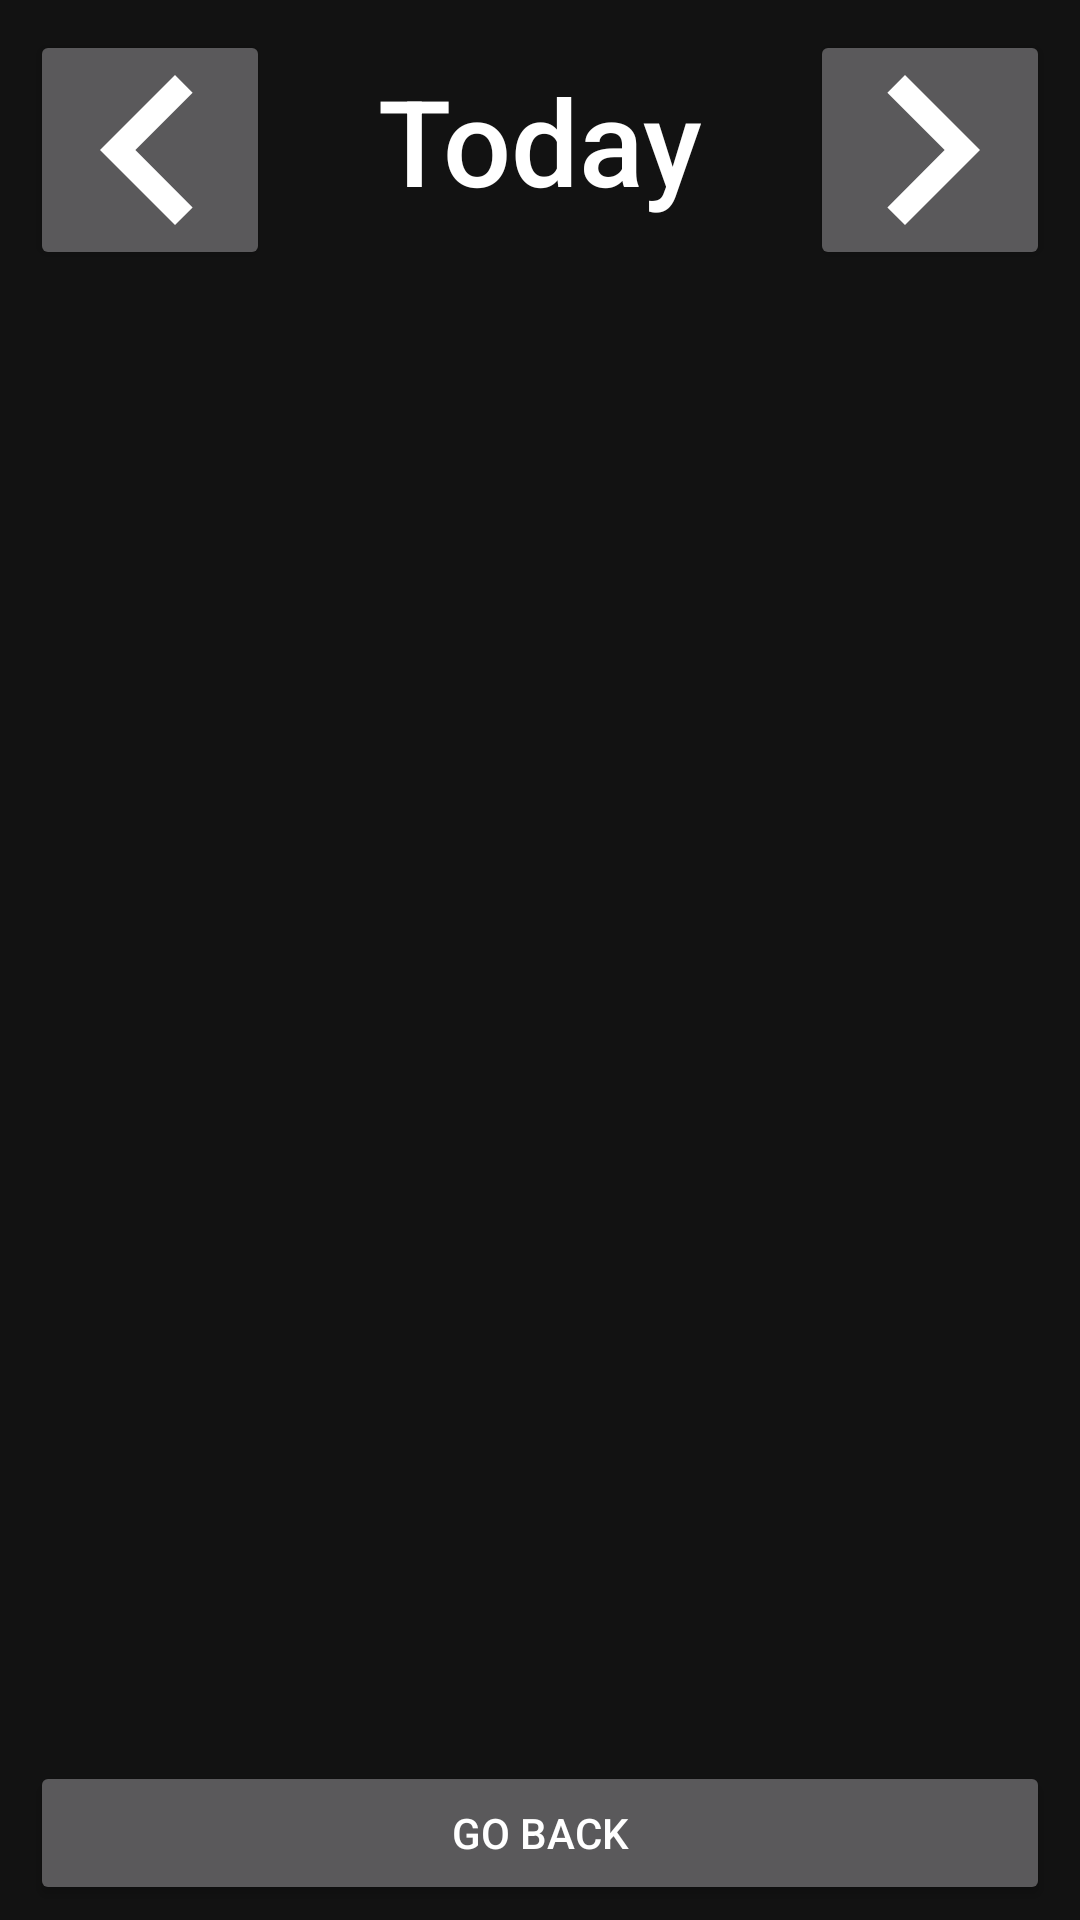

Icons on this 1080×1920 Android screen, each with the point to tap as (x=x, y=y):
Left Button: (x=150, y=150)
Right Button: (x=930, y=150)
